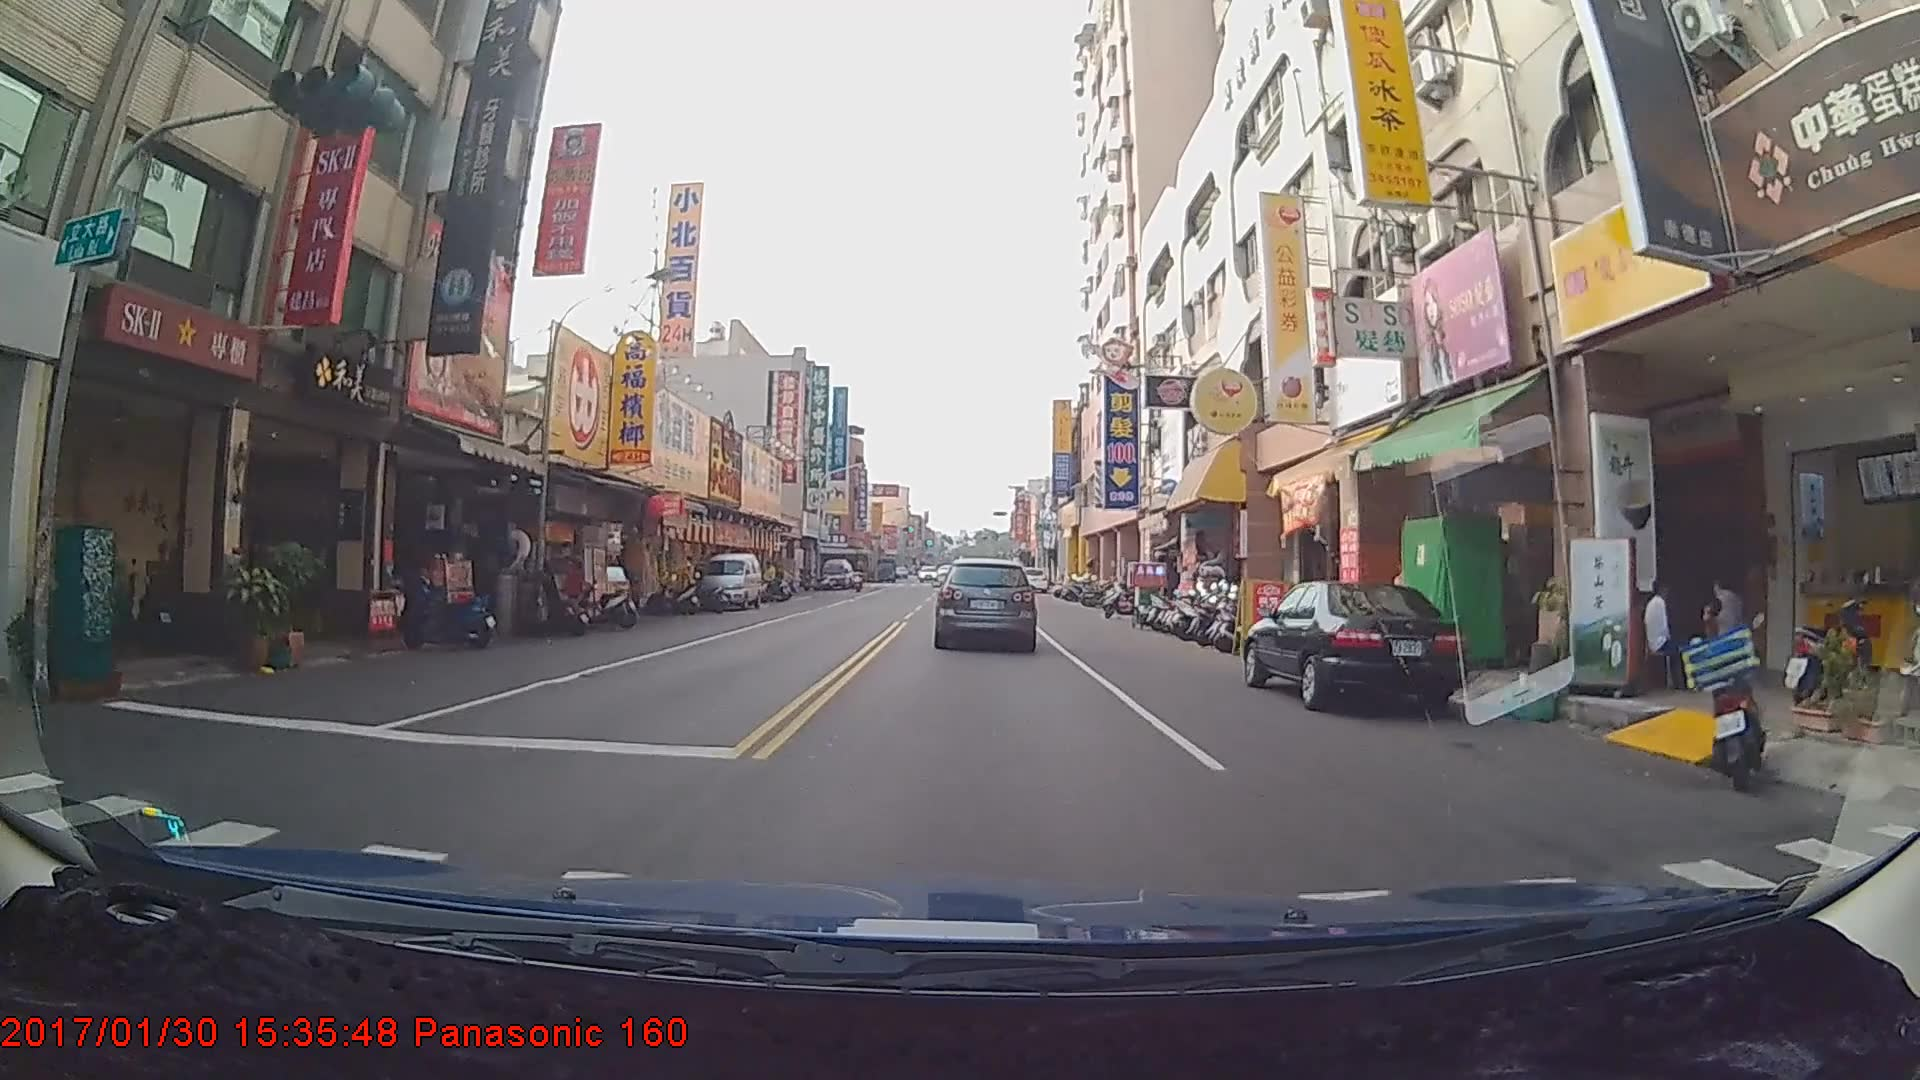pedestrian: (1698, 571, 1759, 692), (1639, 573, 1690, 690)
vehicle: (1244, 578, 1456, 707), (934, 557, 1036, 649), (698, 558, 761, 617), (819, 562, 852, 596), (1015, 573, 1046, 600)
